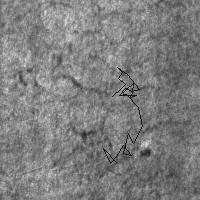crazing: (13, 23, 158, 106), (50, 117, 178, 191), (103, 67, 142, 163)
